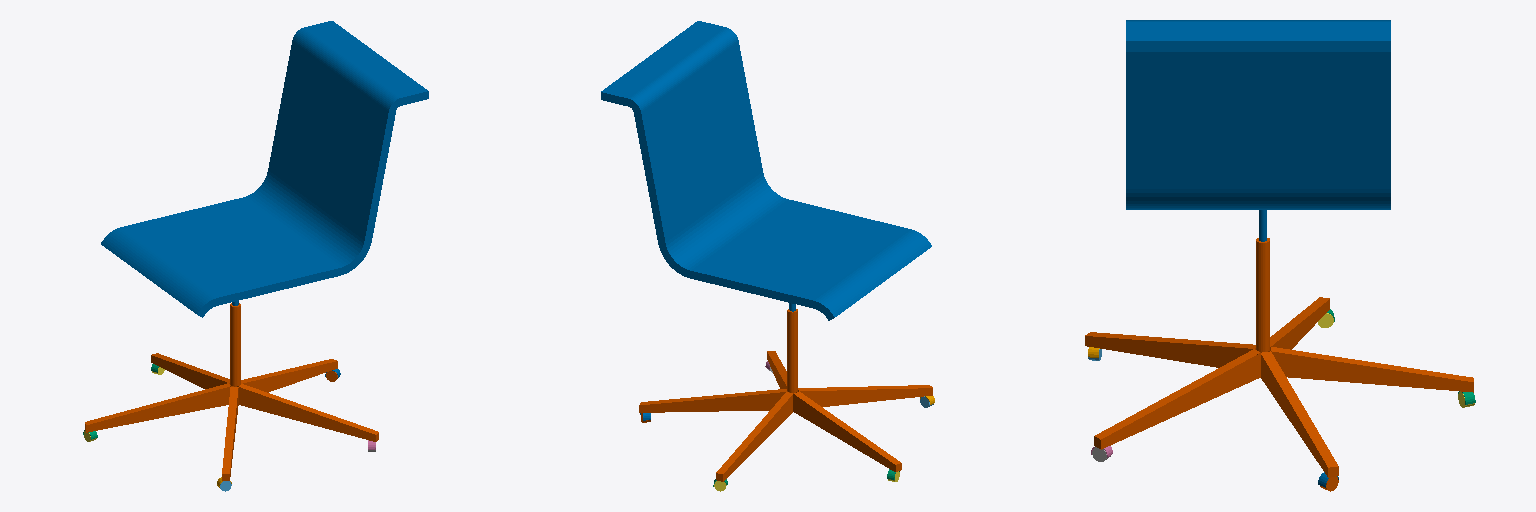
robot.urdf — partnet_33334eb57a9d7bbba19d006f28e25379:
<?xml version="1.0" encoding="utf-8"?>
<robot name="partnet_33334eb57a9d7bbba19d006f28e25379">
 <link name="base"/>
 <link name="link_0">
  <visual name="lever-31">
   <origin xyz="-0.023739817023277376 0.10203401433473354 0"/>
   <geometry>
    <mesh filename="textured_objs/original-4.obj"/>
   </geometry>
  </visual>
  <visual name="lever-31">
   <origin xyz="-0.023739817023277376 0.10203401433473354 0"/>
   <geometry>
    <mesh filename="textured_objs/original-5.obj"/>
   </geometry>
  </visual>
  <collision>
   <geometry>
    <mesh filename="cvx_objs/link_0.obj"/>
   </geometry>
  </collision>
 </link>
 <joint name="joint_0" type="revolute">
  <origin xyz="0.02935945473109136 -0.10203401433473354 -0.17208649322207048"/>
  <axis xyz="0 0 -1"/>
  <child link="link_0"/>
  <parent link="link_11"/>
  <limit lower="-0.5235987755982988" upper="-0.0"/>
 </joint>
 <link name="link_1">
  <visual name="caster_yoke-26">
   <origin xyz="0.538118 0 -0.1852625"/>
   <geometry>
    <mesh filename="textured_objs/original-13.obj"/>
   </geometry>
  </visual>
  <collision>
   <geometry>
    <mesh filename="cvx_objs/link_1.obj"/>
   </geometry>
  </collision>
 </link>
 <joint name="joint_1" type="continuous">
  <origin xyz="-0.538118 0 0.1852625"/>
  <axis xyz="0 1 0"/>
  <child link="link_1"/>
  <parent link="link_12"/>
 </joint>
 <link name="link_2">
  <visual name="wheel-27">
   <origin xyz="0.024371331458056648 0.7446520244248956 0.052851980990352466"/>
   <geometry>
    <mesh filename="textured_objs/original-12.obj"/>
   </geometry>
  </visual>
  <collision>
   <geometry>
    <mesh filename="cvx_objs/link_2.obj"/>
   </geometry>
  </collision>
 </link>
 <joint name="joint_2" type="continuous">
  <origin xyz="0.5137466685419433 -0.7446520244248956 -0.23811448099035246"/>
  <axis xyz="-0.9080440658613925 -1.0894780194069185e-05 0.4188746522949496"/>
  <child link="link_2"/>
  <parent link="link_1"/>
 </joint>
 <link name="link_3">
  <visual name="caster_yoke-24">
   <origin xyz="0.17842249999999998 0 0.33047550000000003"/>
   <geometry>
    <mesh filename="textured_objs/original-16.obj"/>
   </geometry>
  </visual>
  <collision>
   <geometry>
    <mesh filename="cvx_objs/link_3.obj"/>
   </geometry>
  </collision>
 </link>
 <joint name="joint_3" type="continuous">
  <origin xyz="-0.17842249999999998 0 -0.33047550000000003"/>
  <axis xyz="0 1 0"/>
  <child link="link_3"/>
  <parent link="link_12"/>
 </joint>
 <link name="link_4">
  <visual name="wheel-25">
   <origin xyz="-0.06749556341378374 0.7446816317413222 0.06140626318229933"/>
   <geometry>
    <mesh filename="textured_objs/original-15.obj"/>
   </geometry>
  </visual>
  <collision>
   <geometry>
    <mesh filename="cvx_objs/link_4.obj"/>
   </geometry>
  </collision>
 </link>
 <joint name="joint_4" type="continuous">
  <origin xyz="0.24591806341378372 -0.7446816317413222 0.2690692368177007"/>
  <axis xyz="-0.6725622076262955 6.467793199712236e-05 -0.7400405885420129"/>
  <child link="link_4"/>
  <parent link="link_3"/>
 </joint>
 <link name="link_5">
  <visual name="caster_yoke-22">
   <origin xyz="-0.41532 0 0.1505465"/>
   <geometry>
    <mesh filename="textured_objs/original-20.obj"/>
   </geometry>
  </visual>
  <collision>
   <geometry>
    <mesh filename="cvx_objs/link_5.obj"/>
   </geometry>
  </collision>
 </link>
 <joint name="joint_5" type="continuous">
  <origin xyz="0.41532 0 -0.1505465"/>
  <axis xyz="0 1 0"/>
  <child link="link_5"/>
  <parent link="link_12"/>
 </joint>
 <link name="link_6">
  <visual name="wheel-23">
   <origin xyz="-0.2538416721526808 0.7446796273201717 -0.14137683772655119"/>
   <geometry>
    <mesh filename="textured_objs/original-19.obj"/>
   </geometry>
  </visual>
  <collision>
   <geometry>
    <mesh filename="cvx_objs/link_6.obj"/>
   </geometry>
  </collision>
 </link>
 <joint name="joint_6" type="continuous">
  <origin xyz="-0.16147832784731925 -0.7446796273201717 0.2919233377265512"/>
  <axis xyz="0.48671734425418955 6.453746365024279e-05 -0.873559512933758"/>
  <child link="link_6"/>
  <parent link="link_5"/>
 </joint>
 <link name="link_7">
  <visual name="caster_yoke-20">
   <origin xyz="-0.43439444023925006 0 -0.4702389288888149"/>
   <geometry>
    <mesh filename="textured_objs/original-28.obj"/>
   </geometry>
  </visual>
  <collision>
   <geometry>
    <mesh filename="cvx_objs/link_7.obj"/>
   </geometry>
  </collision>
 </link>
 <joint name="joint_7" type="continuous">
  <origin xyz="0.43439444023925006 0 0.4702389288888149"/>
  <axis xyz="0 1 0"/>
  <child link="link_7"/>
  <parent link="link_12"/>
 </joint>
 <link name="link_8">
  <visual name="wheel-21">
   <origin xyz="0.07023230639629283 0.7446392226681613 -0.3774118326254576"/>
   <geometry>
    <mesh filename="textured_objs/original-27.obj"/>
   </geometry>
  </visual>
  <collision>
   <geometry>
    <mesh filename="cvx_objs/link_8.obj"/>
   </geometry>
  </collision>
 </link>
 <joint name="joint_8" type="continuous">
  <origin xyz="-0.5046267466355429 -0.7446392226681613 -0.09282709626335733"/>
  <axis xyz="0.9831356279424239 -3.7050935089839896e-05 0.1828779256703332"/>
  <child link="link_8"/>
  <parent link="link_7"/>
 </joint>
 <link name="link_9">
  <visual name="caster_yoke-18">
   <origin xyz="0.16708 0 -0.6799649999999999"/>
   <geometry>
    <mesh filename="textured_objs/original-24.obj"/>
   </geometry>
  </visual>
  <collision>
   <geometry>
    <mesh filename="cvx_objs/link_9.obj"/>
   </geometry>
  </collision>
 </link>
 <joint name="joint_9" type="continuous">
  <origin xyz="-0.16708 0 0.6799649999999999"/>
  <axis xyz="0 1 0"/>
  <child link="link_9"/>
  <parent link="link_12"/>
 </joint>
 <link name="link_10">
  <visual name="wheel-19">
   <origin xyz="0.234709830298245 0.7446254575550919 -0.02378568414362775"/>
   <geometry>
    <mesh filename="textured_objs/original-23.obj"/>
   </geometry>
  </visual>
  <collision>
   <geometry>
    <mesh filename="cvx_objs/link_10.obj"/>
   </geometry>
  </collision>
 </link>
 <joint name="joint_10" type="continuous">
  <origin xyz="-0.06762983029824499 -0.7446254575550919 -0.6561793158563722"/>
  <axis xyz="0.10098026961460889 -4.963499702441736e-05 0.9948884272544978"/>
  <child link="link_10"/>
  <parent link="link_9"/>
 </joint>
 <link name="link_11">
  <visual name="back_hard_surface-36">
   <origin xyz="0.0056196377078139865 0 -0.17208649322207048"/>
   <geometry>
    <mesh filename="textured_objs/new-3.obj"/>
   </geometry>
  </visual>
  <visual name="back_support-35">
   <origin xyz="0.0056196377078139865 0 -0.17208649322207048"/>
   <geometry>
    <mesh filename="textured_objs/new-1.obj"/>
   </geometry>
  </visual>
  <visual name="seat_hard_surface-32">
   <origin xyz="0.0056196377078139865 0 -0.17208649322207048"/>
   <geometry>
    <mesh filename="textured_objs/new-2.obj"/>
   </geometry>
  </visual>
  <visual name="seat_support-29">
   <origin xyz="0.0056196377078139865 0 -0.17208649322207048"/>
   <geometry>
    <mesh filename="textured_objs/original-7.obj"/>
   </geometry>
  </visual>
  <visual name="seat_support-33">
   <origin xyz="0.0056196377078139865 0 -0.17208649322207048"/>
   <geometry>
    <mesh filename="textured_objs/new-0.obj"/>
   </geometry>
  </visual>
  <visual name="central_support-5">
   <origin xyz="0.0056196377078139865 0 -0.17208649322207048"/>
   <geometry>
    <mesh filename="textured_objs/original-1.obj"/>
   </geometry>
  </visual>
  <collision>
   <geometry>
    <mesh filename="cvx_objs/link_11.obj"/>
   </geometry>
  </collision>
 </link>
 <joint name="joint_11" type="continuous">
  <origin xyz="0.0 0 0.0"/>
  <axis xyz="0 1 0"/>
  <child link="link_11"/>
  <parent link="link_11_helper"/>
 </joint>
 <link name="link_12">
  <visual name="central_support-6">
   <origin xyz="0 0 0"/>
   <geometry>
    <mesh filename="textured_objs/original-8.obj"/>
   </geometry>
  </visual>
  <visual name="leg-8">
   <origin xyz="0 0 0"/>
   <geometry>
    <mesh filename="textured_objs/original-29.obj"/>
   </geometry>
  </visual>
  <visual name="leg-9">
   <origin xyz="0 0 0"/>
   <geometry>
    <mesh filename="textured_objs/original-25.obj"/>
   </geometry>
  </visual>
  <visual name="leg-10">
   <origin xyz="0 0 0"/>
   <geometry>
    <mesh filename="textured_objs/original-21.obj"/>
   </geometry>
  </visual>
  <visual name="leg-11">
   <origin xyz="0 0 0"/>
   <geometry>
    <mesh filename="textured_objs/original-17.obj"/>
   </geometry>
  </visual>
  <visual name="leg-12">
   <origin xyz="0 0 0"/>
   <geometry>
    <mesh filename="textured_objs/original-10.obj"/>
   </geometry>
  </visual>
  <collision>
   <geometry>
    <mesh filename="cvx_objs/link_12.obj"/>
   </geometry>
  </collision>
 </link>
 <joint name="joint_12" type="fixed">
  <origin rpy="1.570796326794897 0 -1.570796326794897" xyz="0 0 0"/>
  <child link="link_12"/>
  <parent link="base"/>
 </joint>
 <link name="link_11_helper"/>
 <joint name="joint_13" type="prismatic">
  <origin xyz="-0.0056196377078139865 0 0.17208649322207048"/>
  <axis xyz="0 -1 0"/>
  <child link="link_11_helper"/>
  <parent link="link_12"/>
  <limit lower="0" upper="0.1"/>
 </joint>
</robot>

--- What the picture shows (computed from the rendered views, not written in the file) ---
Views: 3 orthographic renders of the robot side by side, from view 1: azimuth 30°, elevation 25°; view 2: azimuth 150°, elevation 25°; view 3: azimuth 270°, elevation 25°.
Robot: partnet_33334eb57a9d7bbba19d006f28e25379 — 15 links, 14 joints (1 revolute, 11 continuous, 1 prismatic, 1 fixed); root link base; default pose: all joints at 0.
Links seen in each view (by area): view 1: link_11, link_12; view 2: link_11, link_12; view 3: link_11, link_12.
Boxes of the visible links, x1,y1,x2,y2 form: link_11: [101, 21, 428, 317]; link_12: [85, 303, 378, 480]; link_11: [601, 21, 931, 320]; link_12: [639, 309, 932, 481]; link_11: [1126, 20, 1390, 241]; link_12: [1085, 238, 1473, 477].
Bounding box of the posed robot: 1.13 × 1.02 × 1.34 m (x, y, z).
24 mesh visuals loaded from 24 distinct referenced files (24 OBJ).
